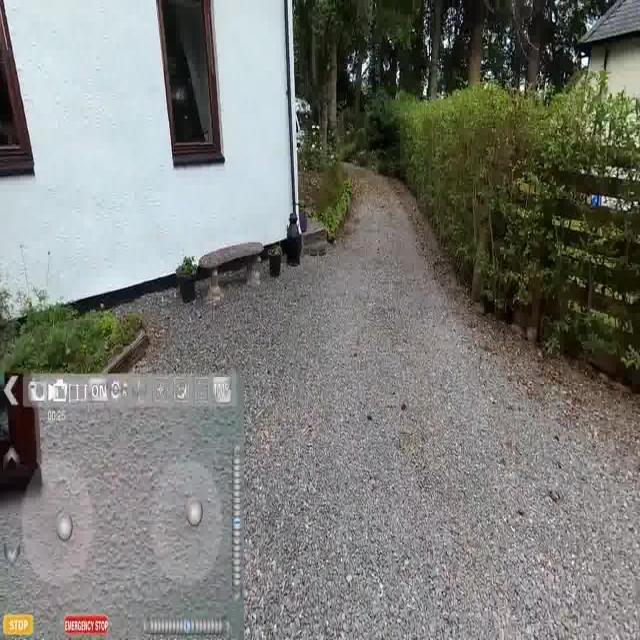drones: (292, 198, 310, 213)
